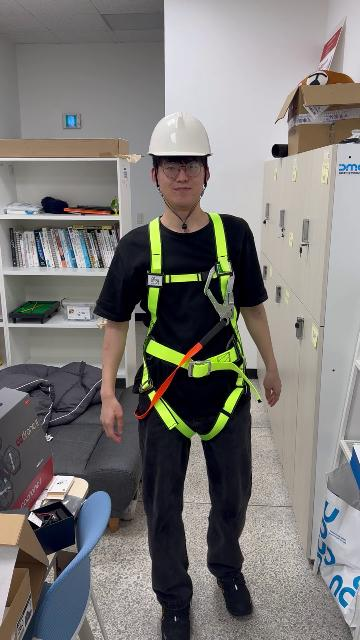helmet_worn: (145, 111, 214, 158)
shoe_worn: (216, 574, 252, 617), (157, 599, 191, 638)
vest_worn: (135, 222, 258, 427)
